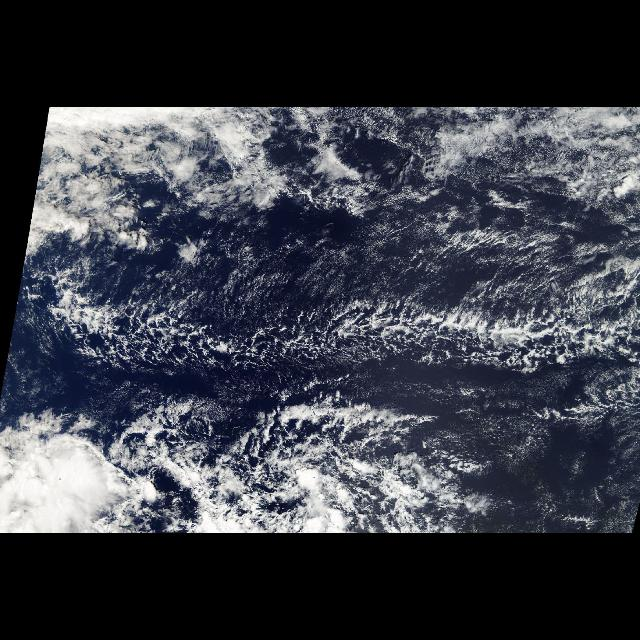Fish: (44, 243, 640, 511)
